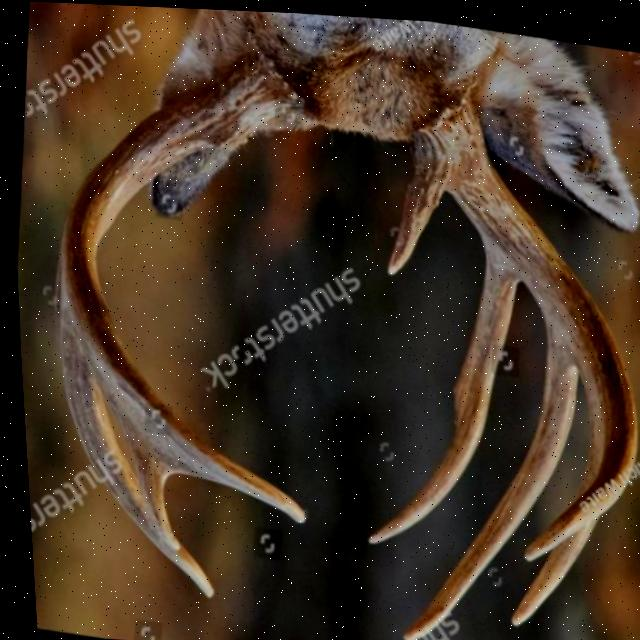E1: (121, 439, 176, 550)
L-F: (55, 54, 301, 521)
R-F: (421, 97, 634, 557)
R-G1: (384, 145, 448, 273)
R-G2: (361, 240, 514, 542)
R-G3: (395, 323, 575, 639)
